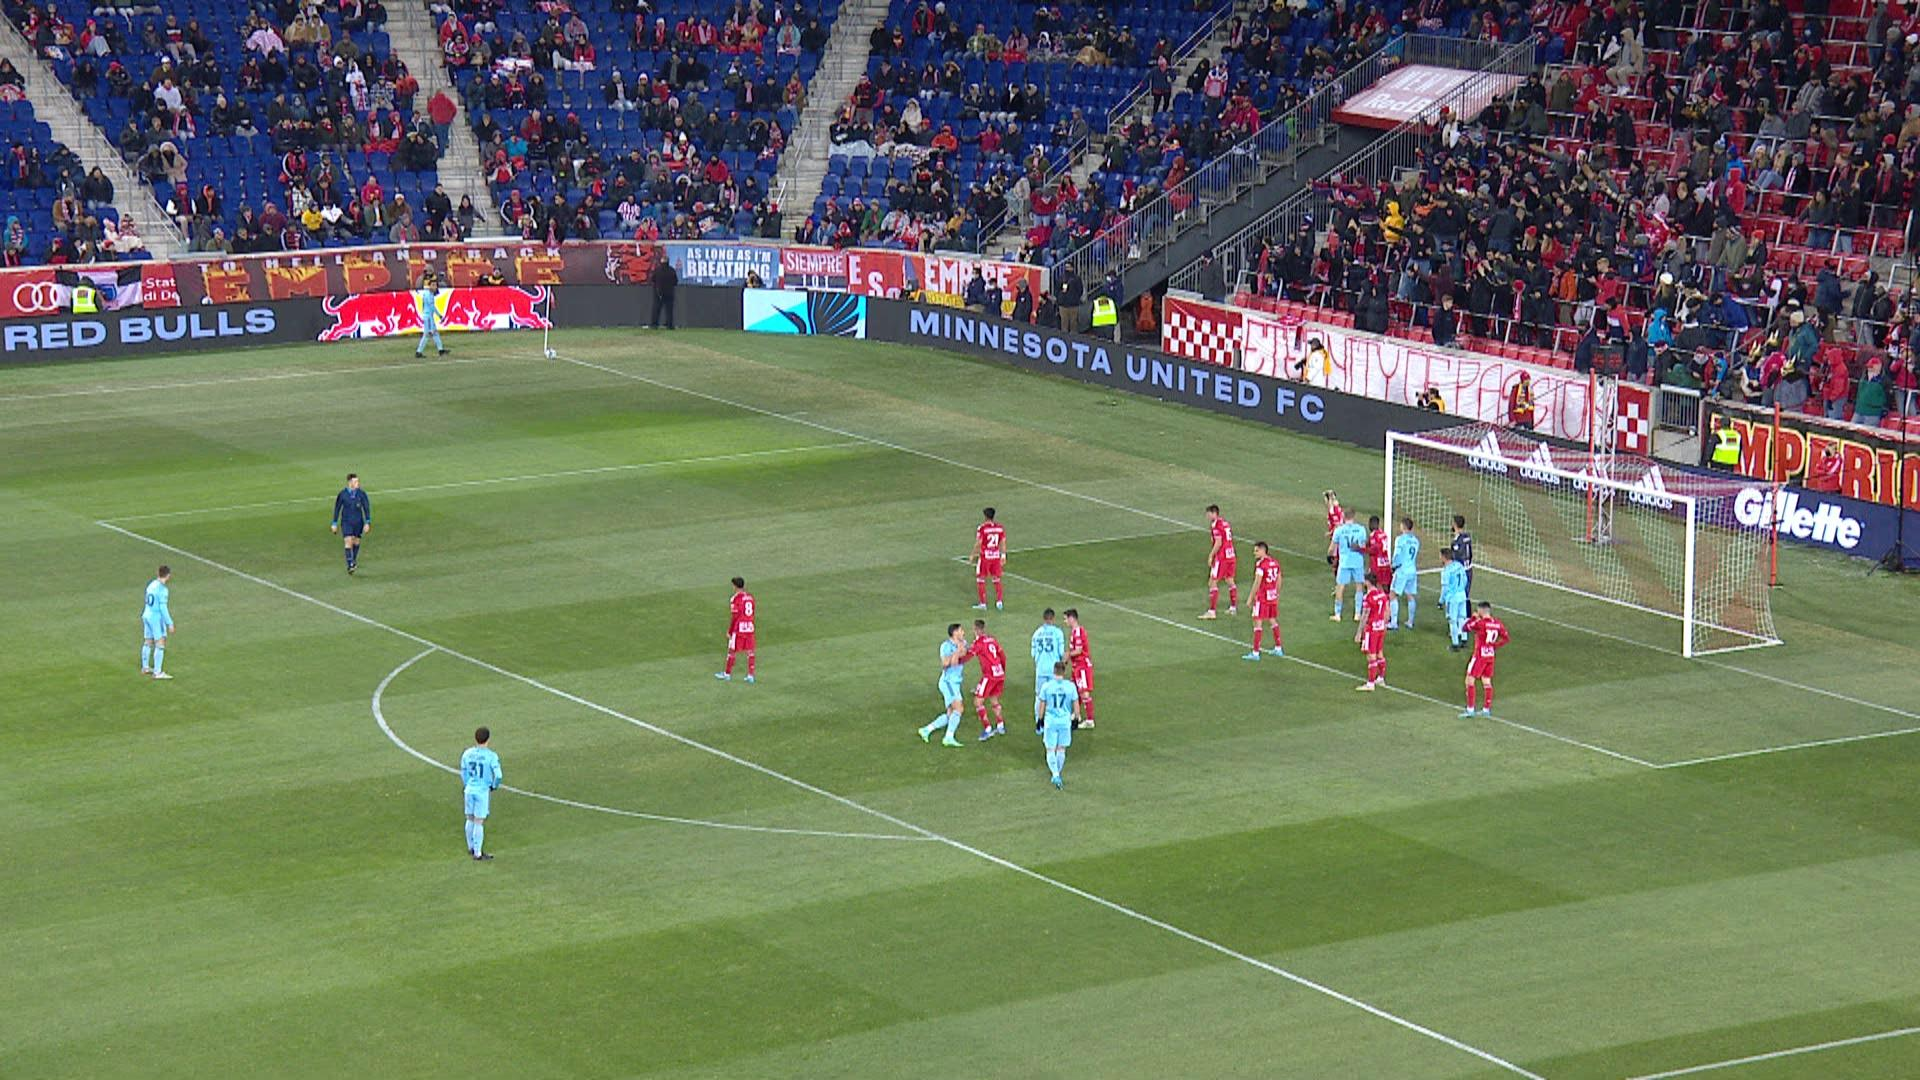football: (545, 348, 558, 359)
